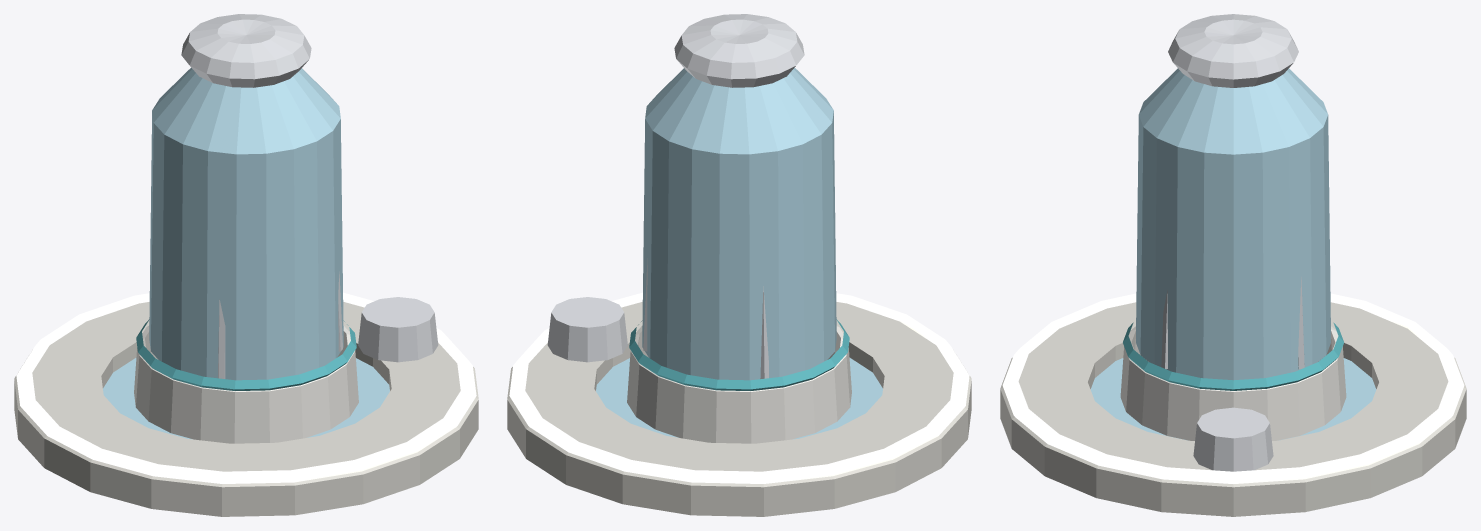
Rendered from arcology-towers-and-skyways-water-column-352e23a8__23273.glb.
3 renders of one model, left to right at view 1: azimuth 30°, elevation 25°; view 2: azimuth 150°, elevation 25°; view 3: azimuth 270°, elevation 25°, orthographic.
Visible parts, largest first — view 1: water-column; view 2: water-column; view 3: water-column.
Boxes of the visible parts, bbox=[...] form: water-column: bbox=[14, 14, 478, 516]; water-column: bbox=[507, 14, 971, 516]; water-column: bbox=[1000, 14, 1466, 516].
Bounding box in the file's own units: 6.4 × 5.85 × 6.4.
